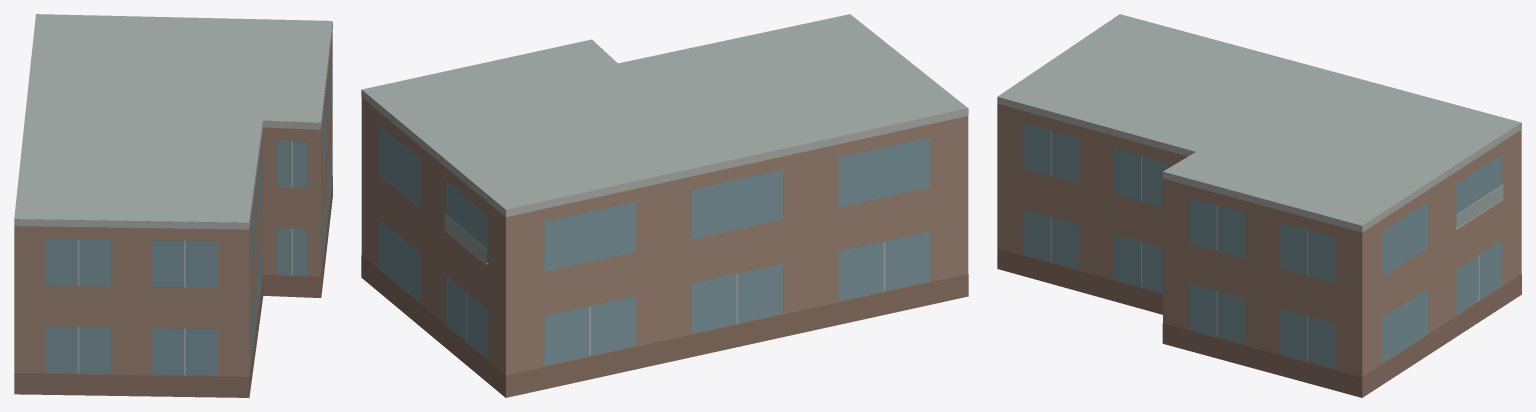
The model's file is survey-upis-32893502.glb.
3 views of the same model, side by side, from view 1: azimuth 30°, elevation 25°; view 2: azimuth 150°, elevation 25°; view 3: azimuth 270°, elevation 25° (orthographic). The views are drawn at different scales.
Parts seen in each view (by area): view 1: survey-upis-32893502.tmp; view 2: survey-upis-32893502.tmp; view 3: survey-upis-32893502.tmp.
Boxes of the visible parts, left/top/right/bottom form: survey-upis-32893502.tmp: left=14, top=14, right=332, bottom=397; survey-upis-32893502.tmp: left=361, top=14, right=968, bottom=397; survey-upis-32893502.tmp: left=997, top=14, right=1521, bottom=397.
Size of the model in its own units: 16.11 by 6.1 by 16.86.
